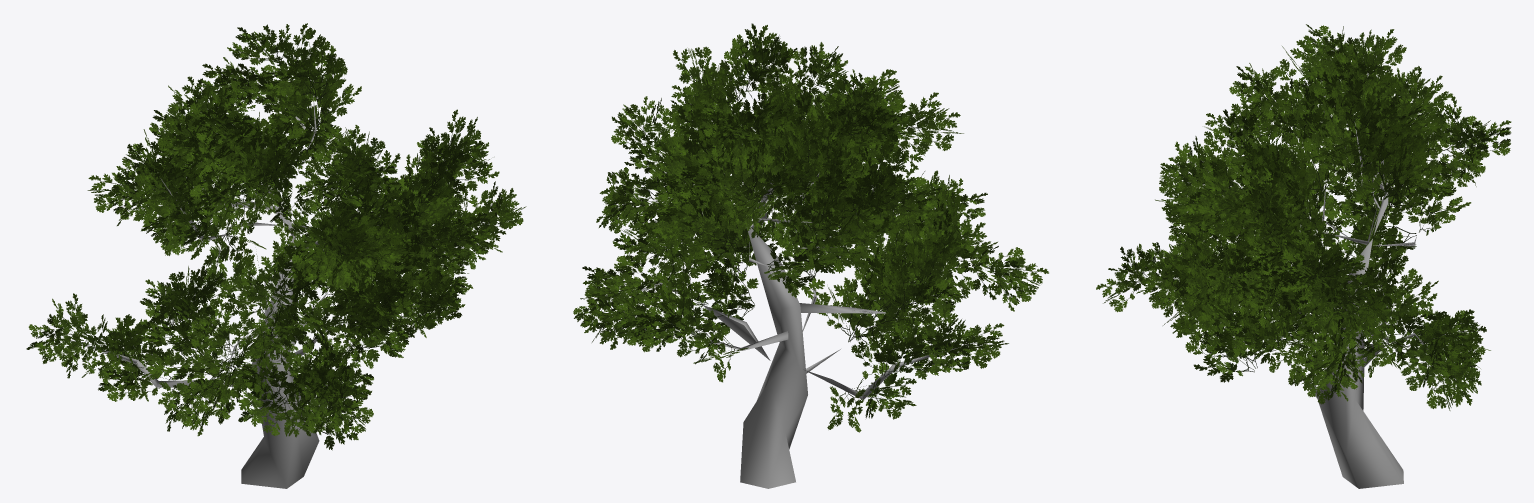
Rendered from oak1 lod1.FBX.
3 renders of one model, left to right at view 1: azimuth 30°, elevation 25°; view 2: azimuth 150°, elevation 25°; view 3: azimuth 270°, elevation 25°, orthographic. The views are drawn at different scales.
Parts seen in each view (by area): view 1: oak1_LOD005; view 2: oak1_LOD005; view 3: oak1_LOD005.
Part boxes in pixels (<box>): oak1_LOD005: <box>26,23,526,488</box>; oak1_LOD005: <box>573,23,1048,488</box>; oak1_LOD005: <box>1096,24,1511,488</box>.
Size of the model in its own units: 102972 by 100814 by 87328.
